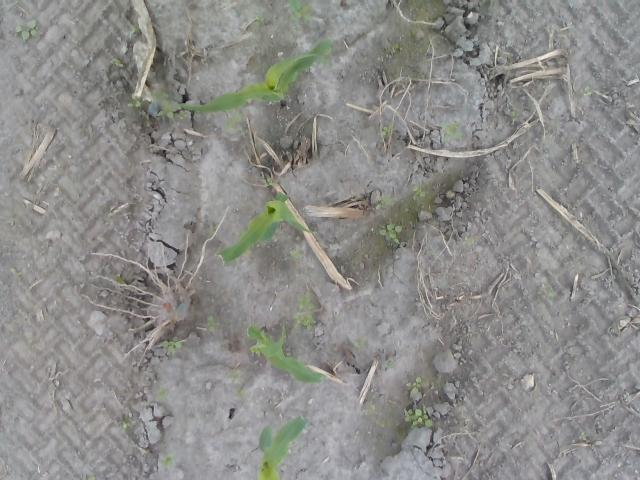Maize: (178, 38, 332, 112), (217, 193, 312, 264), (243, 322, 327, 384), (257, 417, 311, 480)
Weeds: (148, 92, 174, 120), (403, 408, 432, 430), (440, 123, 462, 146), (13, 21, 39, 40), (294, 313, 318, 333), (380, 224, 401, 246), (288, 0, 310, 19), (225, 114, 245, 132), (406, 378, 422, 400), (162, 340, 181, 358), (202, 318, 218, 337), (298, 294, 315, 311), (376, 197, 395, 209), (540, 286, 554, 300), (381, 125, 392, 140), (572, 434, 588, 444), (353, 338, 366, 350), (130, 26, 142, 38), (290, 251, 306, 260), (413, 188, 427, 198), (158, 388, 168, 400), (128, 102, 142, 110), (120, 421, 132, 430), (263, 178, 274, 187), (164, 456, 173, 467), (464, 237, 475, 246), (510, 110, 520, 119), (256, 16, 264, 26), (112, 58, 120, 67), (114, 276, 122, 285), (237, 390, 244, 400), (232, 373, 242, 380)
